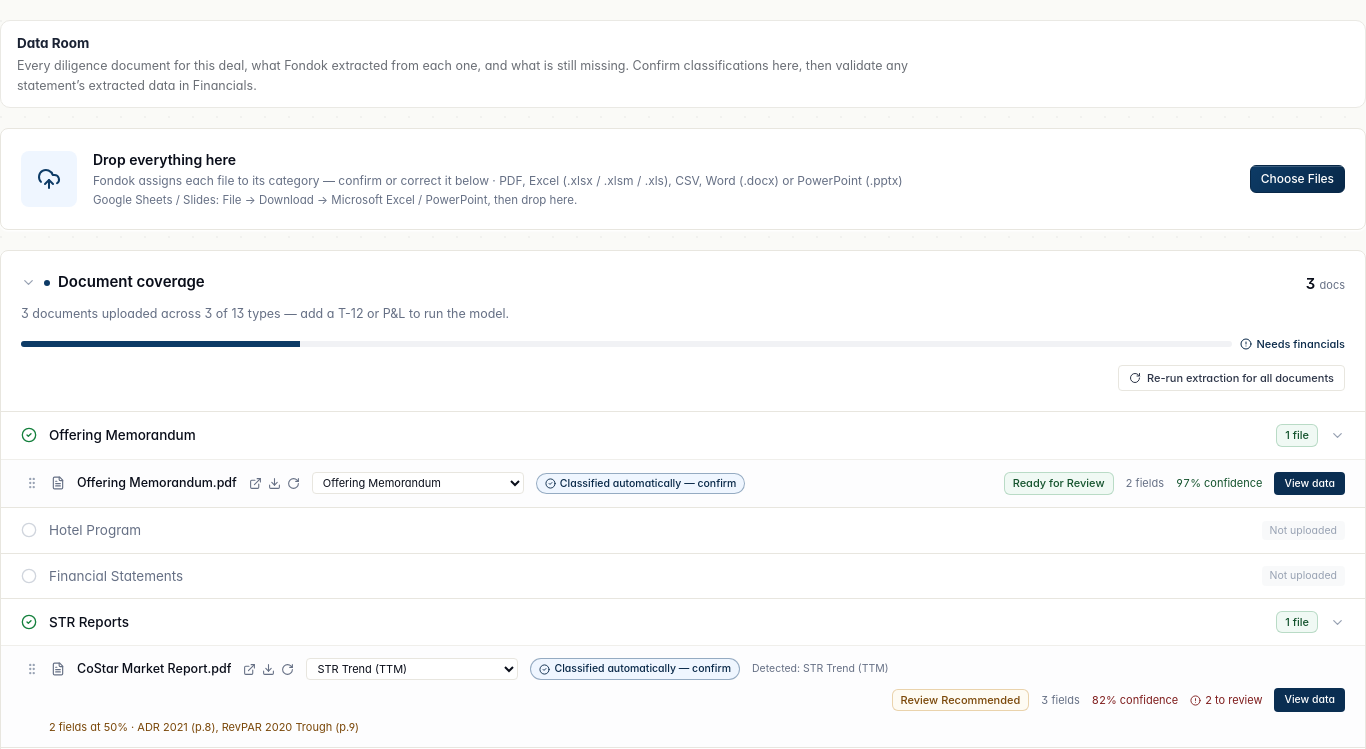
Test case: Data Room — click-through to the field view (R-043 / R-042) › Back returns to coverage with the filter reset; "View data" opens unfiltered
Click the button "2 fields at 50% · ADR 2021 (p.8), RevPAR 2020 Trough (p.9)" at (204, 727), box [49,720,1345,735]
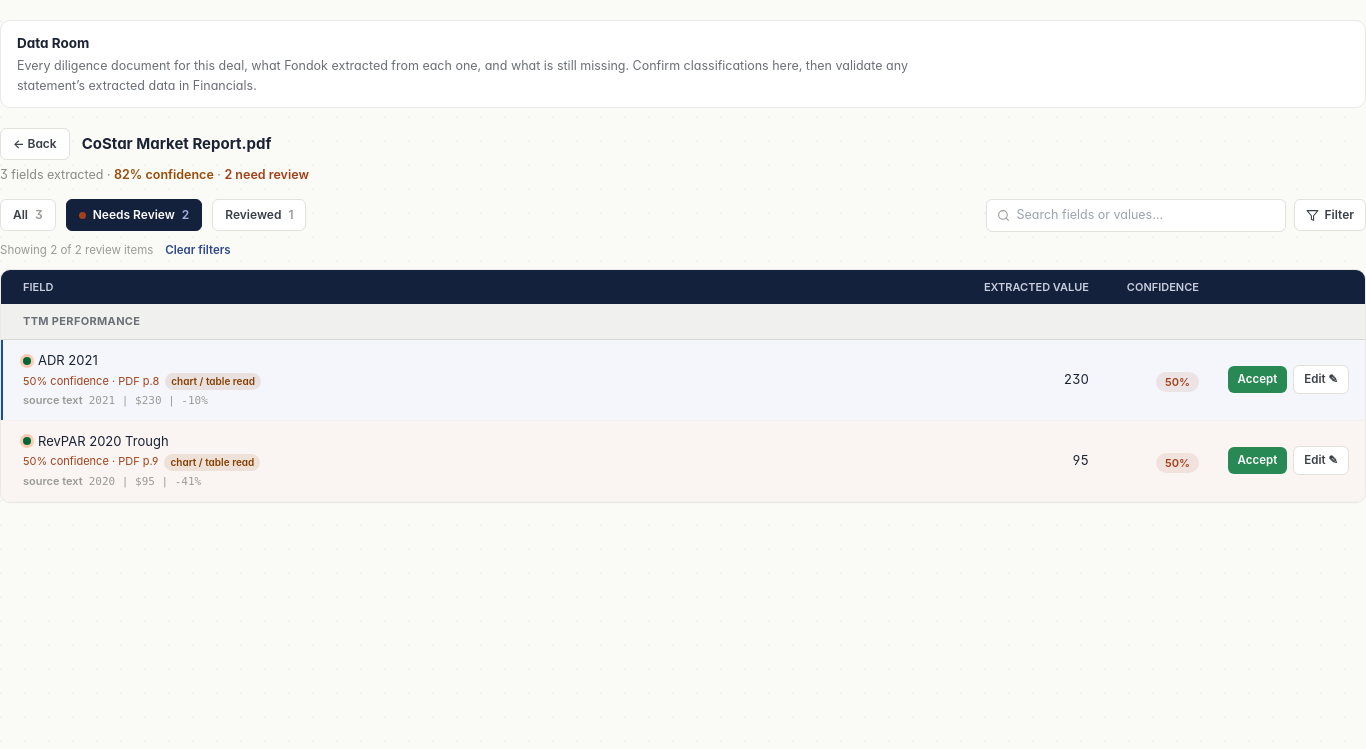
Click the button "← Back" at (35, 144), box [0,128,70,160]
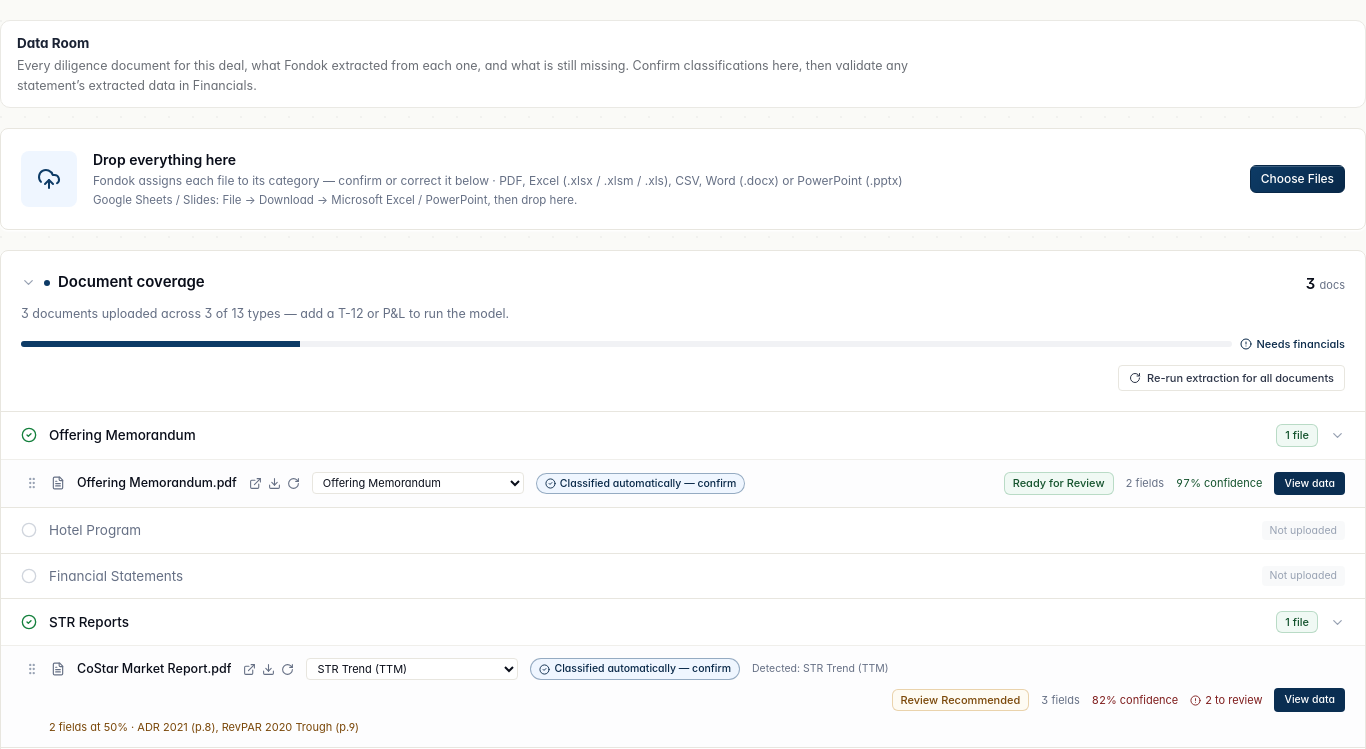
Now the button "2 fields at 50% · ADR 2021 (p.8), RevPAR 2020 Trough (p.9)" is shown, box [49,720,1345,735]
# Plain "View data" on the STR row opens on "All" (occupancy visible).
Click the button "View data" in the row of "82" at (1310, 700), box [1274,688,1345,712]
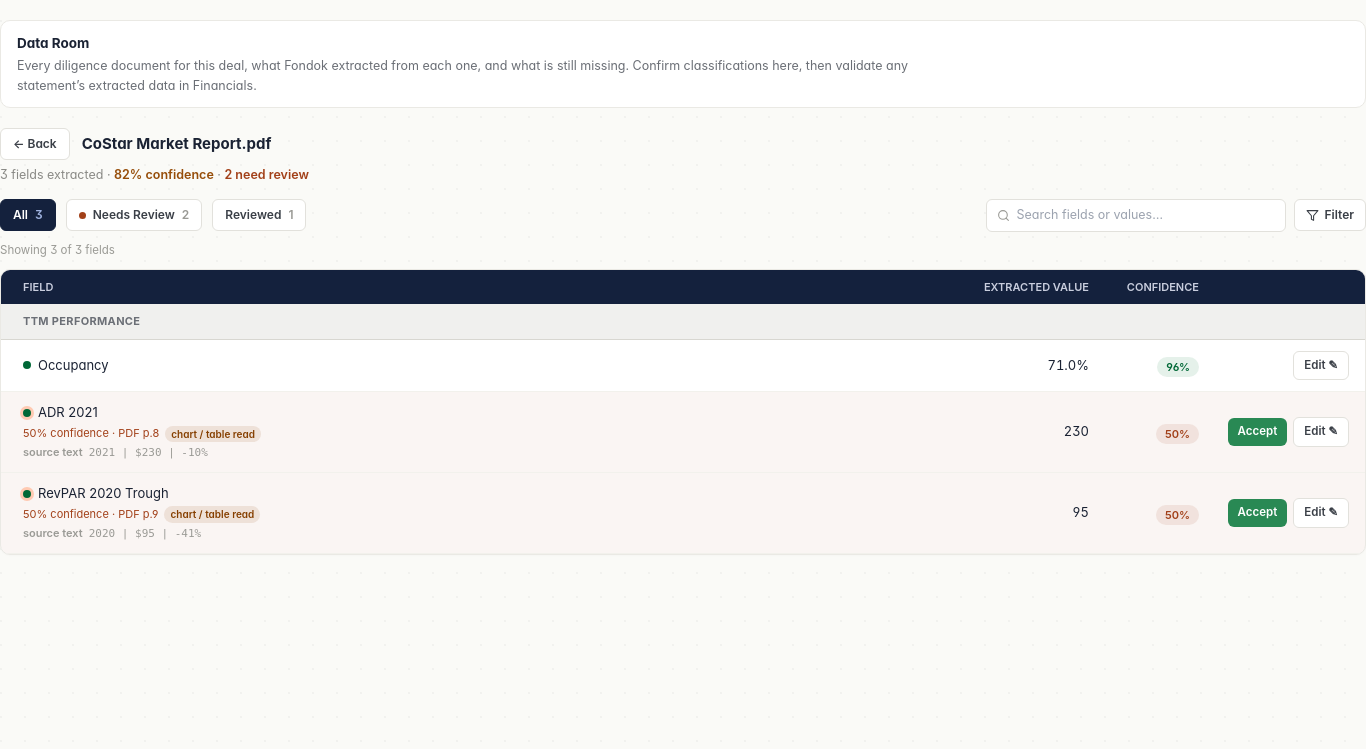
Now the text "Occupancy" is shown, box [23,357,109,373]
